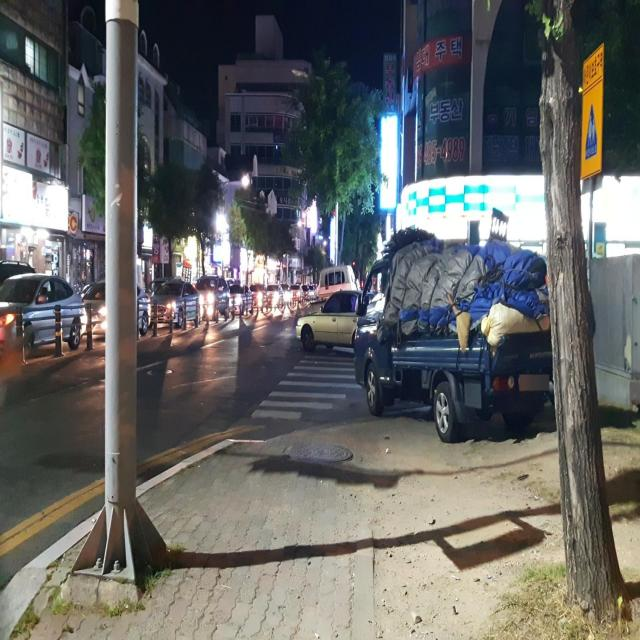횡단보도: (251, 344, 363, 420)
